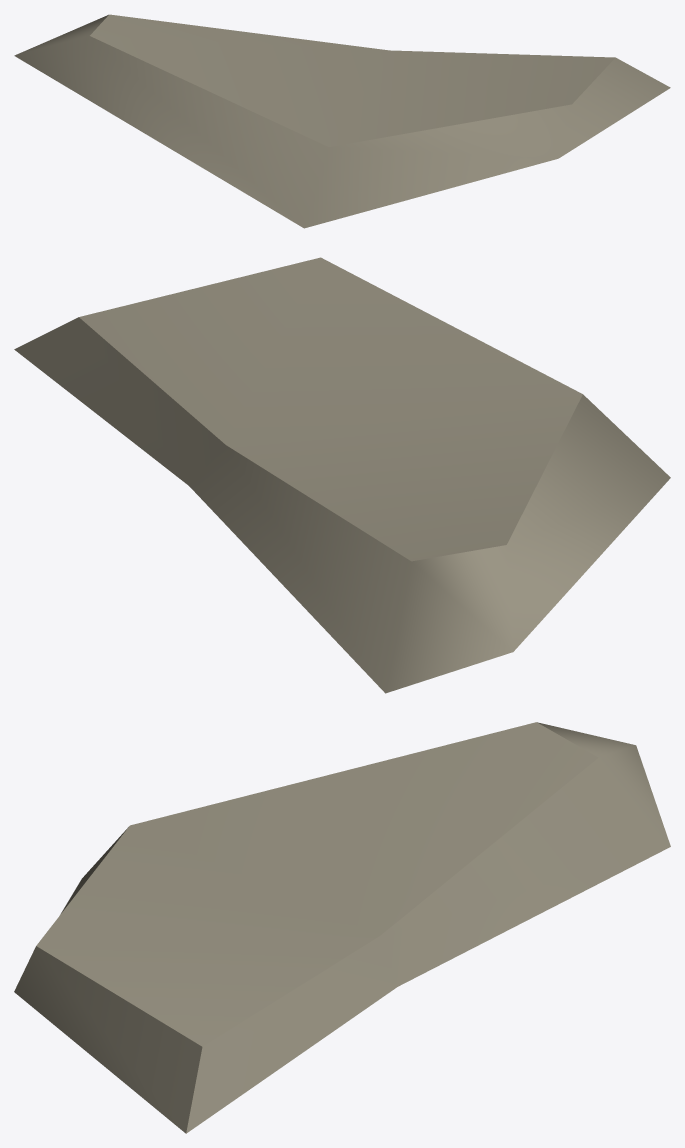
File: Stones_1j.fbx
3 renders of one model, top to bottom at view 1: azimuth 30°, elevation 25°; view 2: azimuth 150°, elevation 25°; view 3: azimuth 270°, elevation 25°, orthographic. The views are drawn at different scales.
Parts seen in each view (by area): view 1: Stones_1j; view 2: Stones_1j; view 3: Stones_1j.
Boxes of the visible parts, x1=… form: Stones_1j: x1=14, y1=14, x2=670, y2=228; Stones_1j: x1=14, y1=257, x2=670, y2=693; Stones_1j: x1=14, y1=722, x2=670, y2=1133.
Size of the model in its own units: 41.9 by 6.97 by 34.32.
